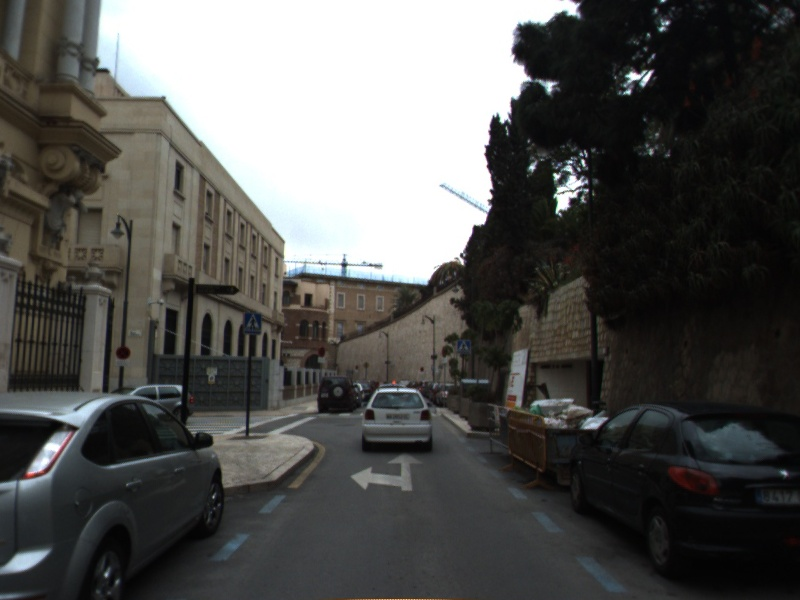STRAIGHT_LEFT: (348, 450, 427, 493)
